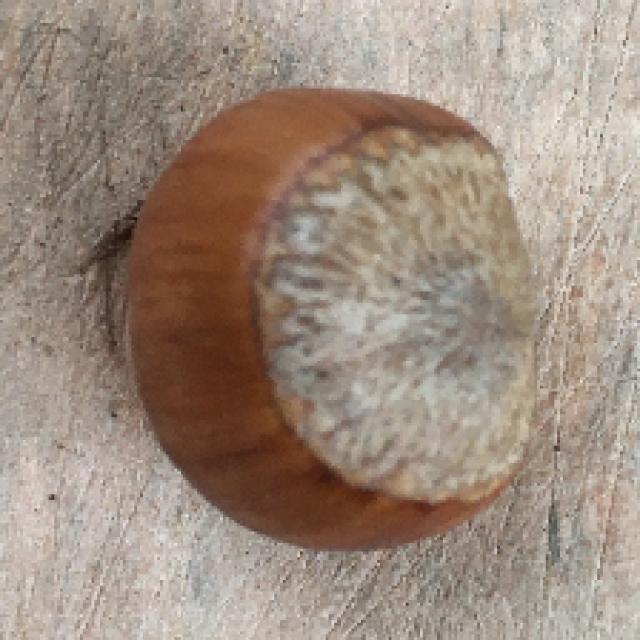qualityHazelnut: (118, 82, 552, 555)
